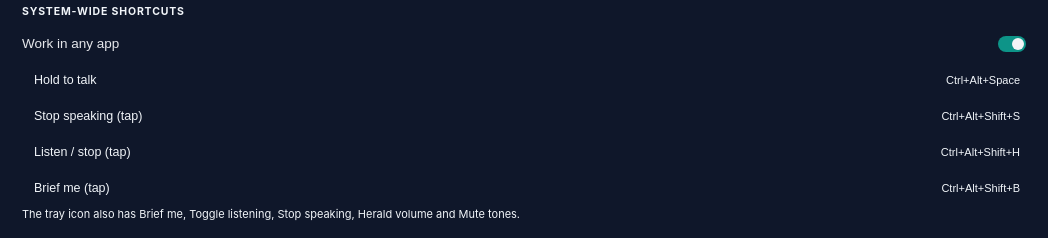
NativeHeraldSettings › desktop: capture a new chord; Backspace turns one off
Click the menu item "Listen / stop (tap) Ctrl+Alt+Shift+H": [82, 152] box [12, 134, 1036, 170]
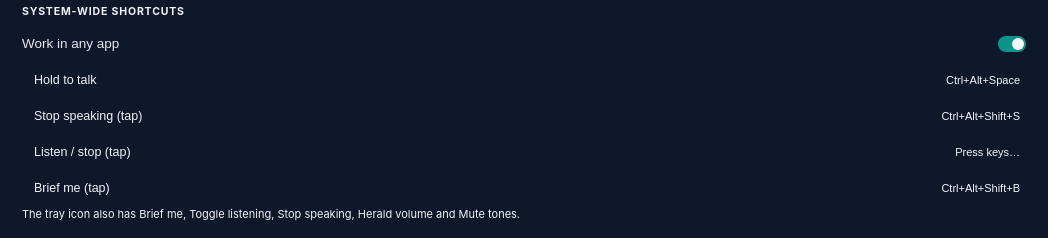
Now the text "Press keys…" is shown, box [955, 146, 1020, 158]
Press k
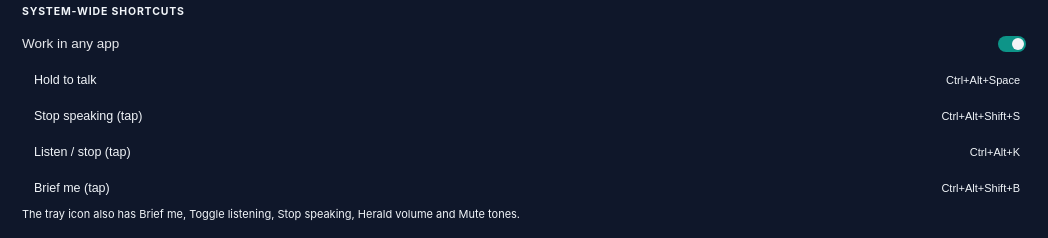
Now the text "Press keys…" reads "Ctrl+Alt+K", box [970, 146, 1020, 158]
Click the menu item "Brief me (tap) Ctrl+Alt+Shift+B": [72, 188] box [12, 170, 1036, 206]
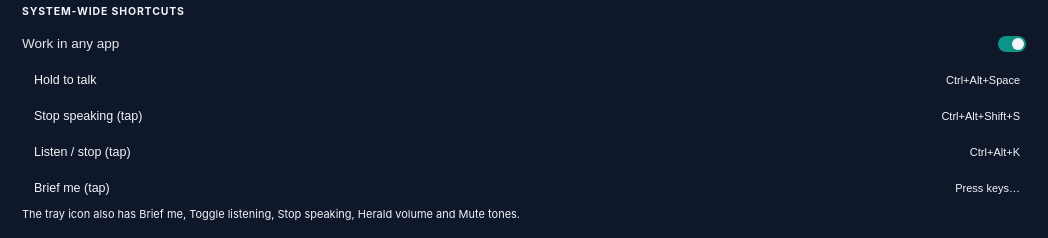
Press Backspace
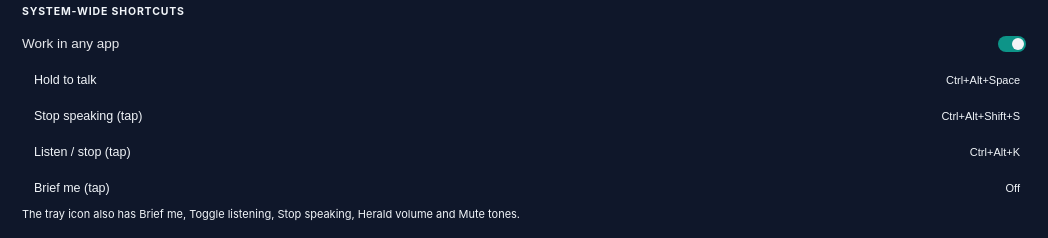
Now the text "Off" is shown, box [1006, 182, 1020, 194]
